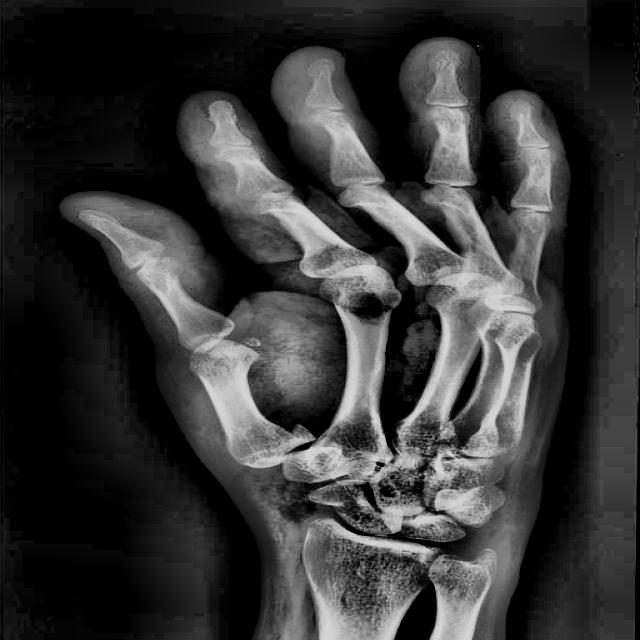fracture: (268, 421, 324, 464), (427, 200, 468, 214), (258, 208, 302, 220), (345, 202, 393, 211)
